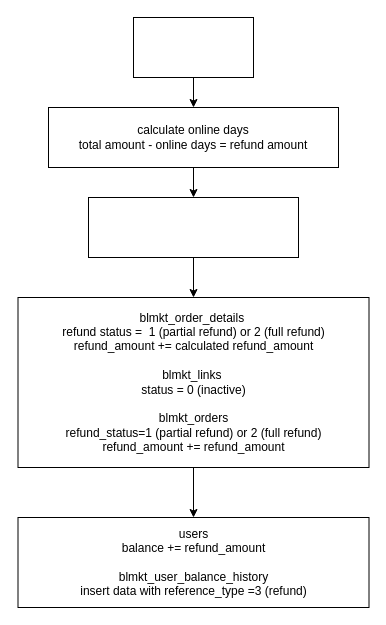
Some shapes in this 386 by 625 pixel diagram are drawn without their labels. The shapes that lost their labels are listed below. From the top down, each one's centre as x and y in pixels, then its label:
the point at 193,47: select * from blmkt_link where offline_counter>=7
the point at 193,227: Link removal process via plugin when site comes back online?
